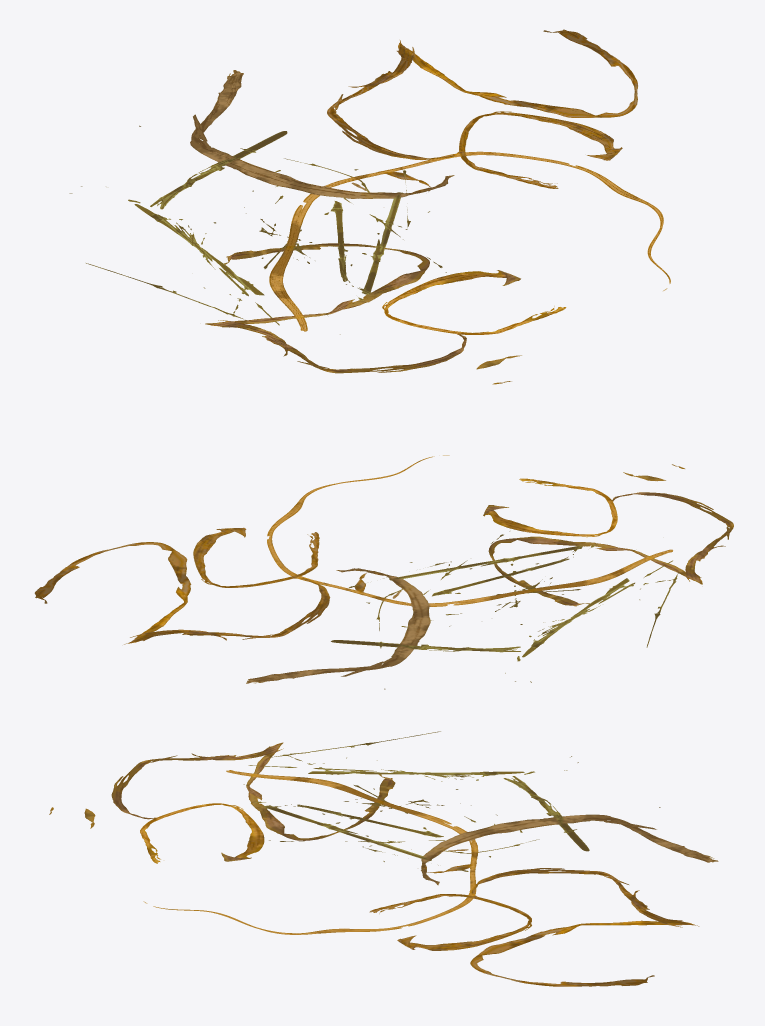
File: DryGrass2.fbx
3 views of the same model, one above another, from view 1: azimuth 30°, elevation 25°; view 2: azimuth 150°, elevation 25°; view 3: azimuth 270°, elevation 25° (orthographic). The views are drawn at different scales.
Visible parts, largest first — view 1: 001_Bb_SM.mo; view 2: 001_Bb_SM.mo; view 3: 001_Bb_SM.mo.
Part boxes in pixels (<box>): 001_Bb_SM.mo: <box>69,29,670,384</box>; 001_Bb_SM.mo: <box>34,455,733,689</box>; 001_Bb_SM.mo: <box>49,731,718,986</box>.
Size of the model in its own units: 90.14 by 1.63e-05 by 100.
